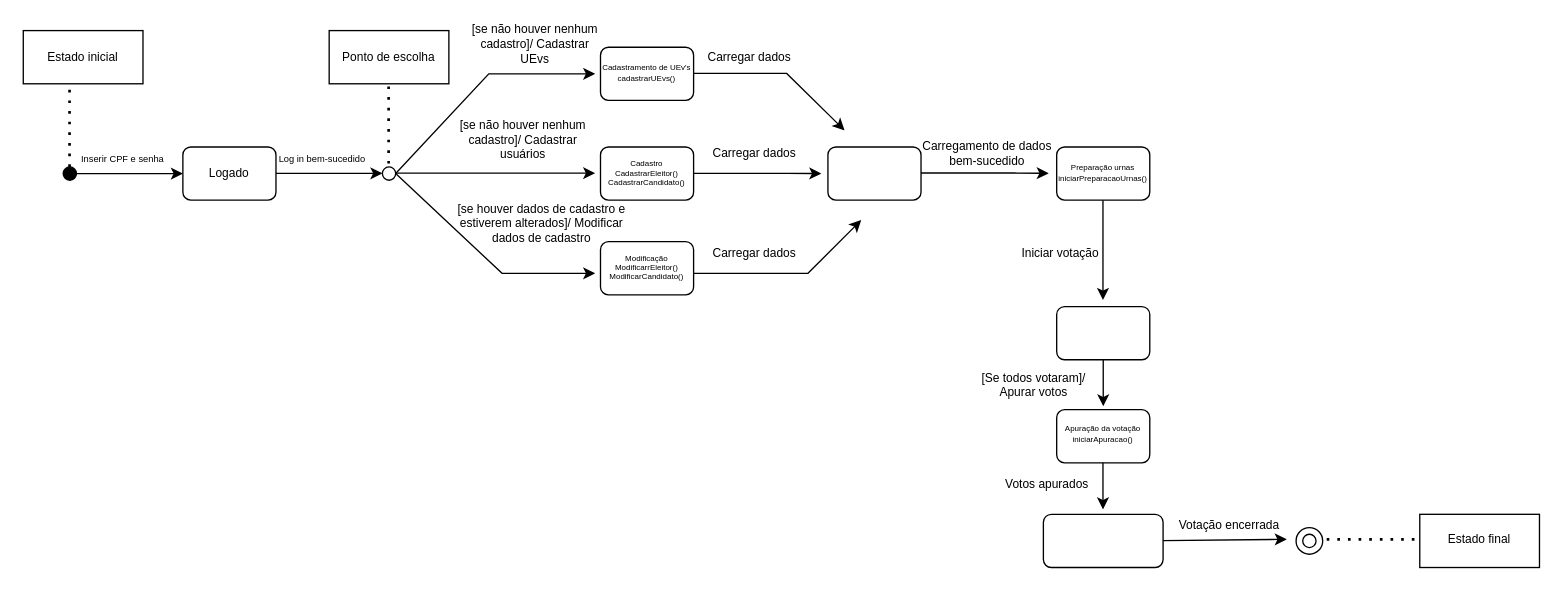
The diagram is 1563 pixels wide and 605 high, and some of its shapes have lost their labels. The box of each missing label's shape, as (x1, y1, x2, y2) in pixels:
Carregando Dados comandarCargaDados(): (827, 146, 921, 200)
Início da Votação comandarInicioVotacao(): (1055, 305, 1150, 360)
Relação de dados da votação solicitarRelatorios(): (1042, 513, 1163, 568)
